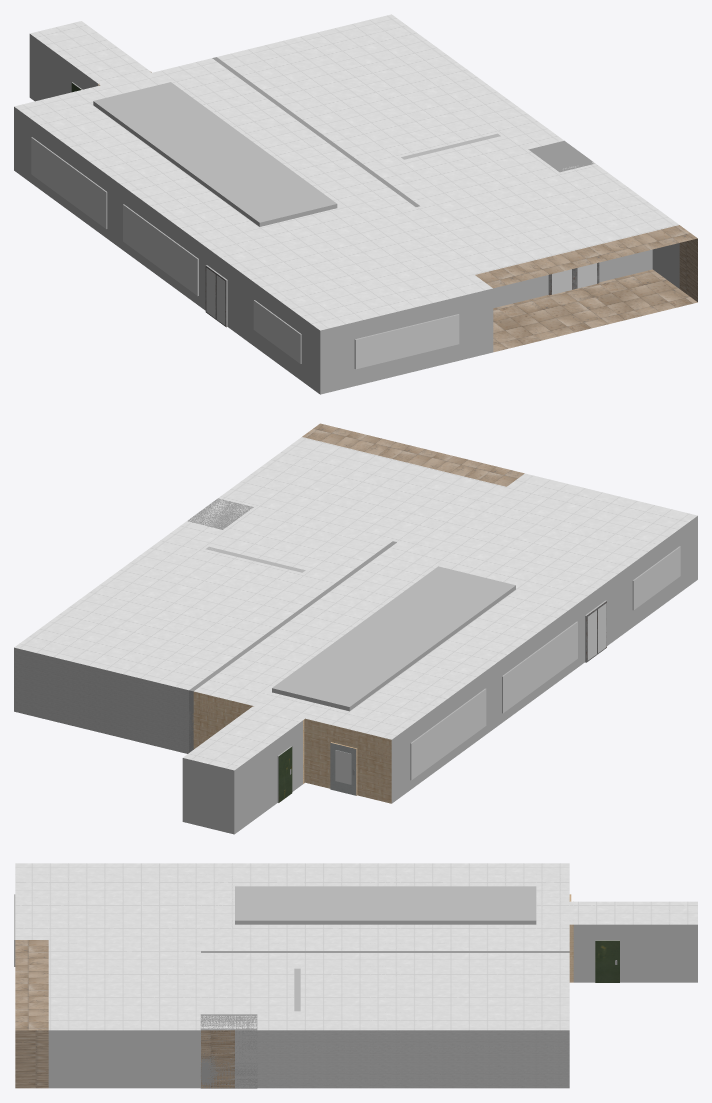
File: ROOM01.fbx
3 views of the same model, one above another, from view 1: azimuth 30°, elevation 25°; view 2: azimuth 150°, elevation 25°; view 3: azimuth 270°, elevation 25° (orthographic). The views are drawn at different scales.
Visible parts, largest first — view 1: pCube1, pCube5, pCube2; view 2: pCube1, pCube2, pCube5; view 3: pCube1, pCube5, pCube2.
Part boxes in pixels (bbox=[...]): pCube1: bbox=[14, 14, 697, 394]; pCube5: bbox=[528, 140, 594, 172]; pCube2: bbox=[212, 57, 419, 206]; pCube1: bbox=[14, 423, 697, 834]; pCube2: bbox=[189, 541, 396, 752]; pCube5: bbox=[188, 498, 253, 529]; pCube1: bbox=[14, 863, 697, 1088]; pCube5: bbox=[200, 1014, 257, 1088]; pCube2: bbox=[201, 951, 569, 952].
Bounding box in the file's own units: 40.38 × 6.96 × 69.62.
